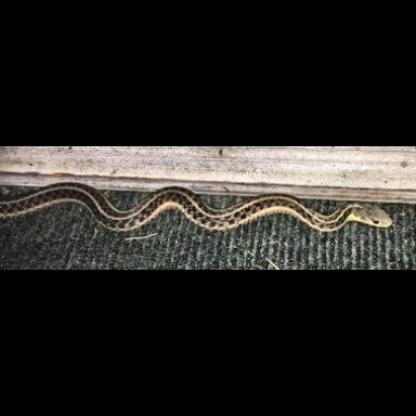Snake: (2, 170, 393, 244)
